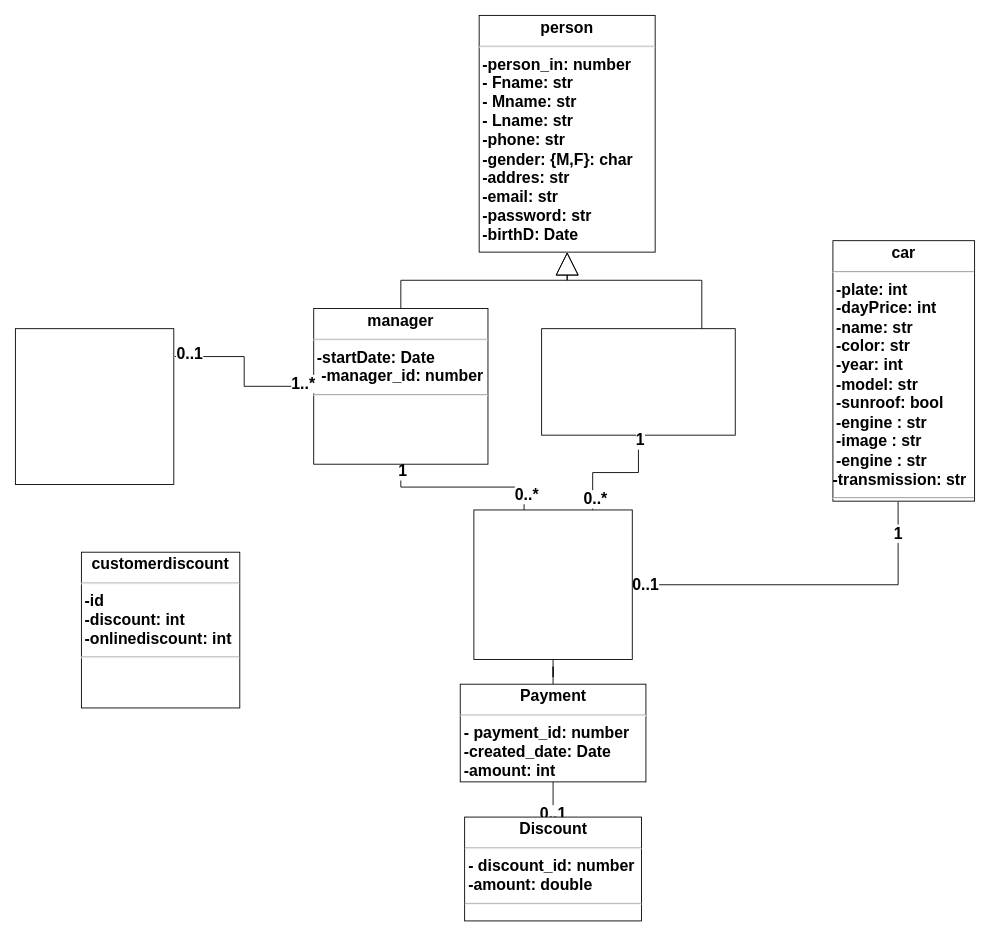
The diagram is 990 pixels wide and 936 high, and some of its shapes have lost their labels. The box of each missing label's shape, as (x1, y1, x2, y2) in pixels:
customer - customer_id: number -days: int: (541, 328, 735, 435)
rental - rental_id: number -startD: Date -endD: Date: (473, 509, 632, 660)
Super -super_id: number: (15, 328, 174, 484)
